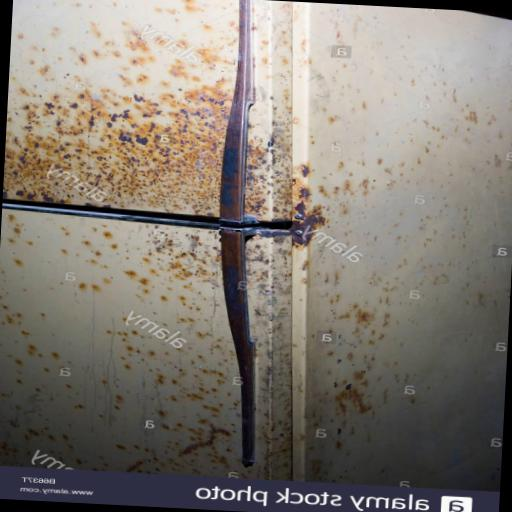corrosion: (2, 63, 233, 217), (277, 200, 326, 252), (332, 381, 372, 422), (245, 161, 273, 219)
